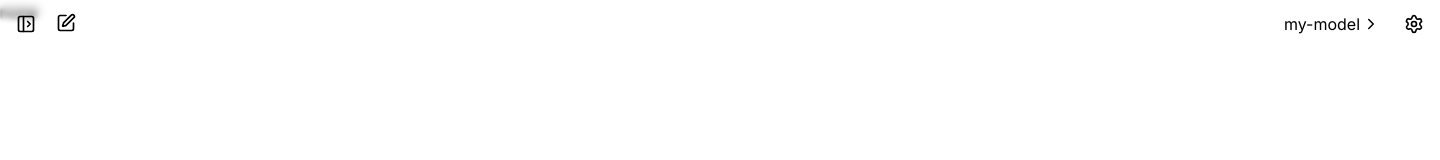
Test: Header on non-mac › shows the selected model name on the button
Expected: the text "my-model" is shown, [1284,12,1360,36]
Hover over the button with aria-label "Select model" at (1332, 24), box [1276,8,1388,40]
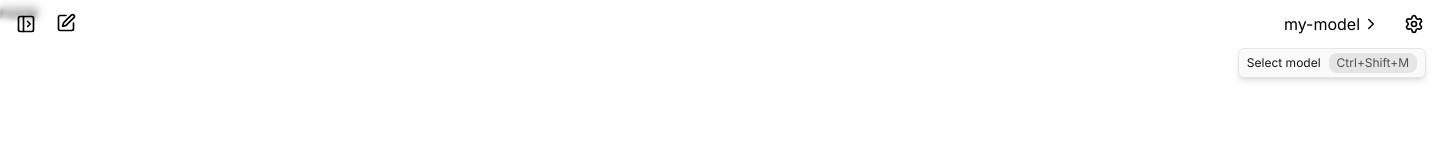
Result: the tooltip reads "Select model Ctrl+Shift+M" at [1238,48,1426,78]
